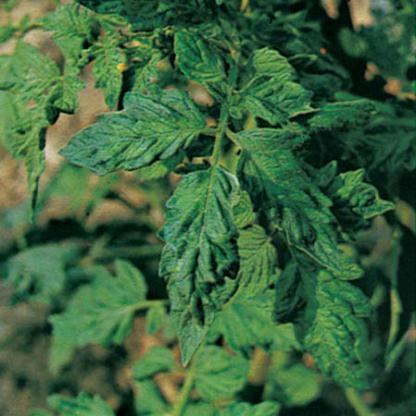tomato leaf mosaic virus: (158, 170, 249, 361), (231, 125, 342, 269), (275, 252, 380, 388), (67, 91, 205, 179), (226, 83, 321, 123), (175, 32, 233, 92)
